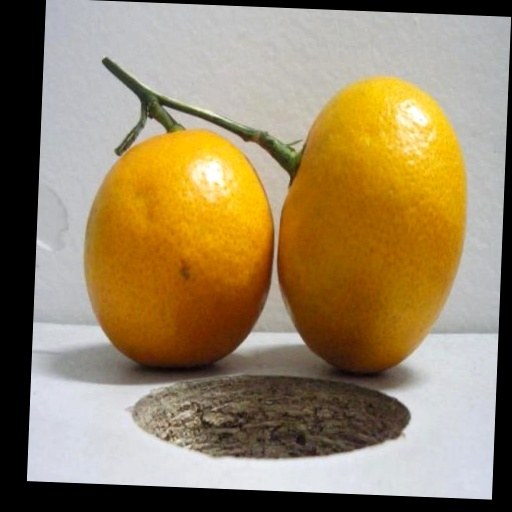fruit: (277, 77, 465, 372), (84, 131, 273, 366)
